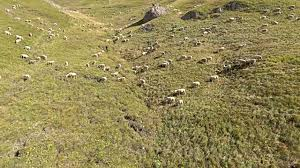sheep: (173, 86, 190, 95), (64, 71, 79, 79), (207, 74, 220, 83), (244, 57, 256, 66), (165, 95, 176, 104), (38, 54, 49, 63), (20, 74, 33, 81), (190, 81, 202, 88), (223, 65, 232, 74), (103, 65, 112, 74), (3, 30, 13, 38), (138, 79, 147, 87), (161, 60, 169, 68), (240, 59, 248, 67), (63, 60, 71, 68), (114, 62, 123, 69), (20, 52, 29, 59), (29, 59, 37, 66), (98, 63, 107, 69), (14, 37, 23, 43), (187, 54, 194, 61), (100, 76, 108, 82), (47, 60, 55, 66), (111, 71, 120, 76), (117, 77, 125, 82), (199, 58, 207, 63), (206, 56, 213, 61), (180, 54, 188, 58), (15, 34, 21, 38)
